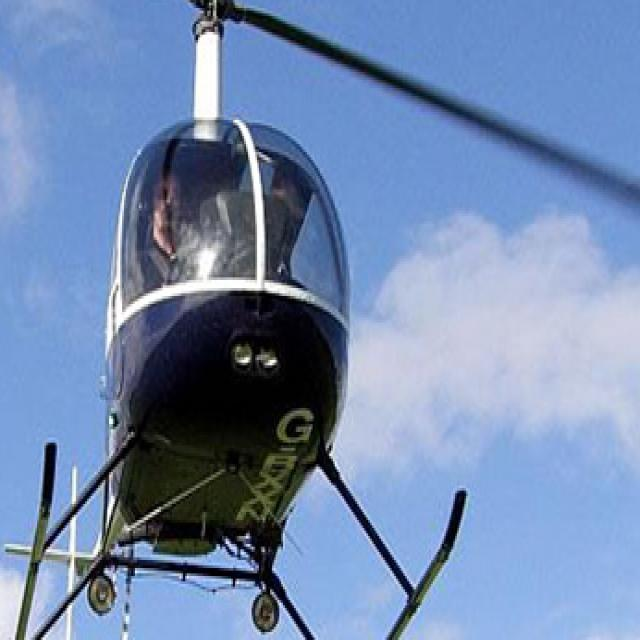helicopter: (12, 1, 465, 640)
